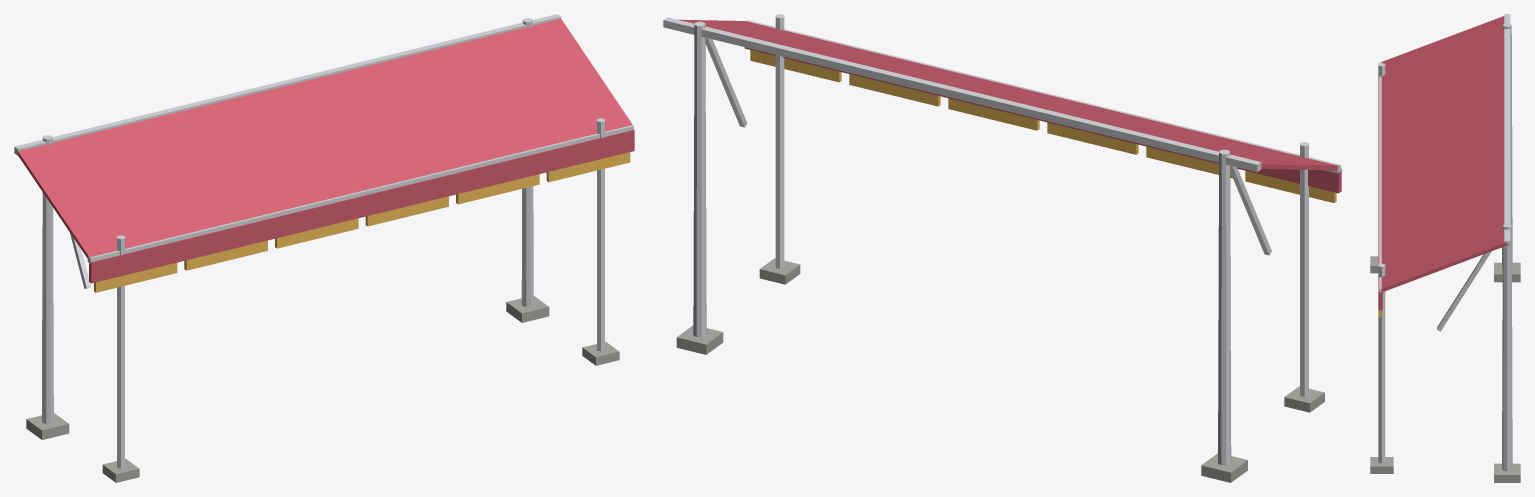
Rendered from indian-bazaar-street-and-temple-awning-run-on-poles-cr-96b6a8bc__36581.glb.
The picture shows the model from 3 angles, left to right: view 1: azimuth 30°, elevation 25°; view 2: azimuth 150°, elevation 25°; view 3: azimuth 270°, elevation 25°; orthographic projection. The views are drawn at different scales.
Parts seen in each view (by area): view 1: awning-run-on-poles-crimson-saffron, awning-run-on-poles-crimson-steel, awning-run-on-poles-crimson-crimson, awning-run-on-poles-crimson-stone; view 2: awning-run-on-poles-crimson-steel, awning-run-on-poles-crimson-saffron, awning-run-on-poles-crimson-crimson, awning-run-on-poles-crimson-stone; view 3: awning-run-on-poles-crimson-saffron, awning-run-on-poles-crimson-steel, awning-run-on-poles-crimson-stone.
Boxes of the visible parts, x1,y1,x2,y2 form: awning-run-on-poles-crimson-saffron: (18, 19, 634, 283); awning-run-on-poles-crimson-steel: (14, 14, 633, 468); awning-run-on-poles-crimson-crimson: (94, 152, 630, 292); awning-run-on-poles-crimson-stone: (26, 296, 619, 482); awning-run-on-poles-crimson-steel: (663, 14, 1340, 465); awning-run-on-poles-crimson-saffron: (678, 19, 1341, 193); awning-run-on-poles-crimson-crimson: (750, 50, 1336, 202); awning-run-on-poles-crimson-stone: (676, 258, 1324, 482); awning-run-on-poles-crimson-saffron: (1378, 16, 1507, 310); awning-run-on-poles-crimson-steel: (1378, 14, 1512, 471); awning-run-on-poles-crimson-stone: (1370, 256, 1520, 482).
Bounding box in the file's own units: 6 × 3.1 × 1.68.
4 materials, 1 textured.
